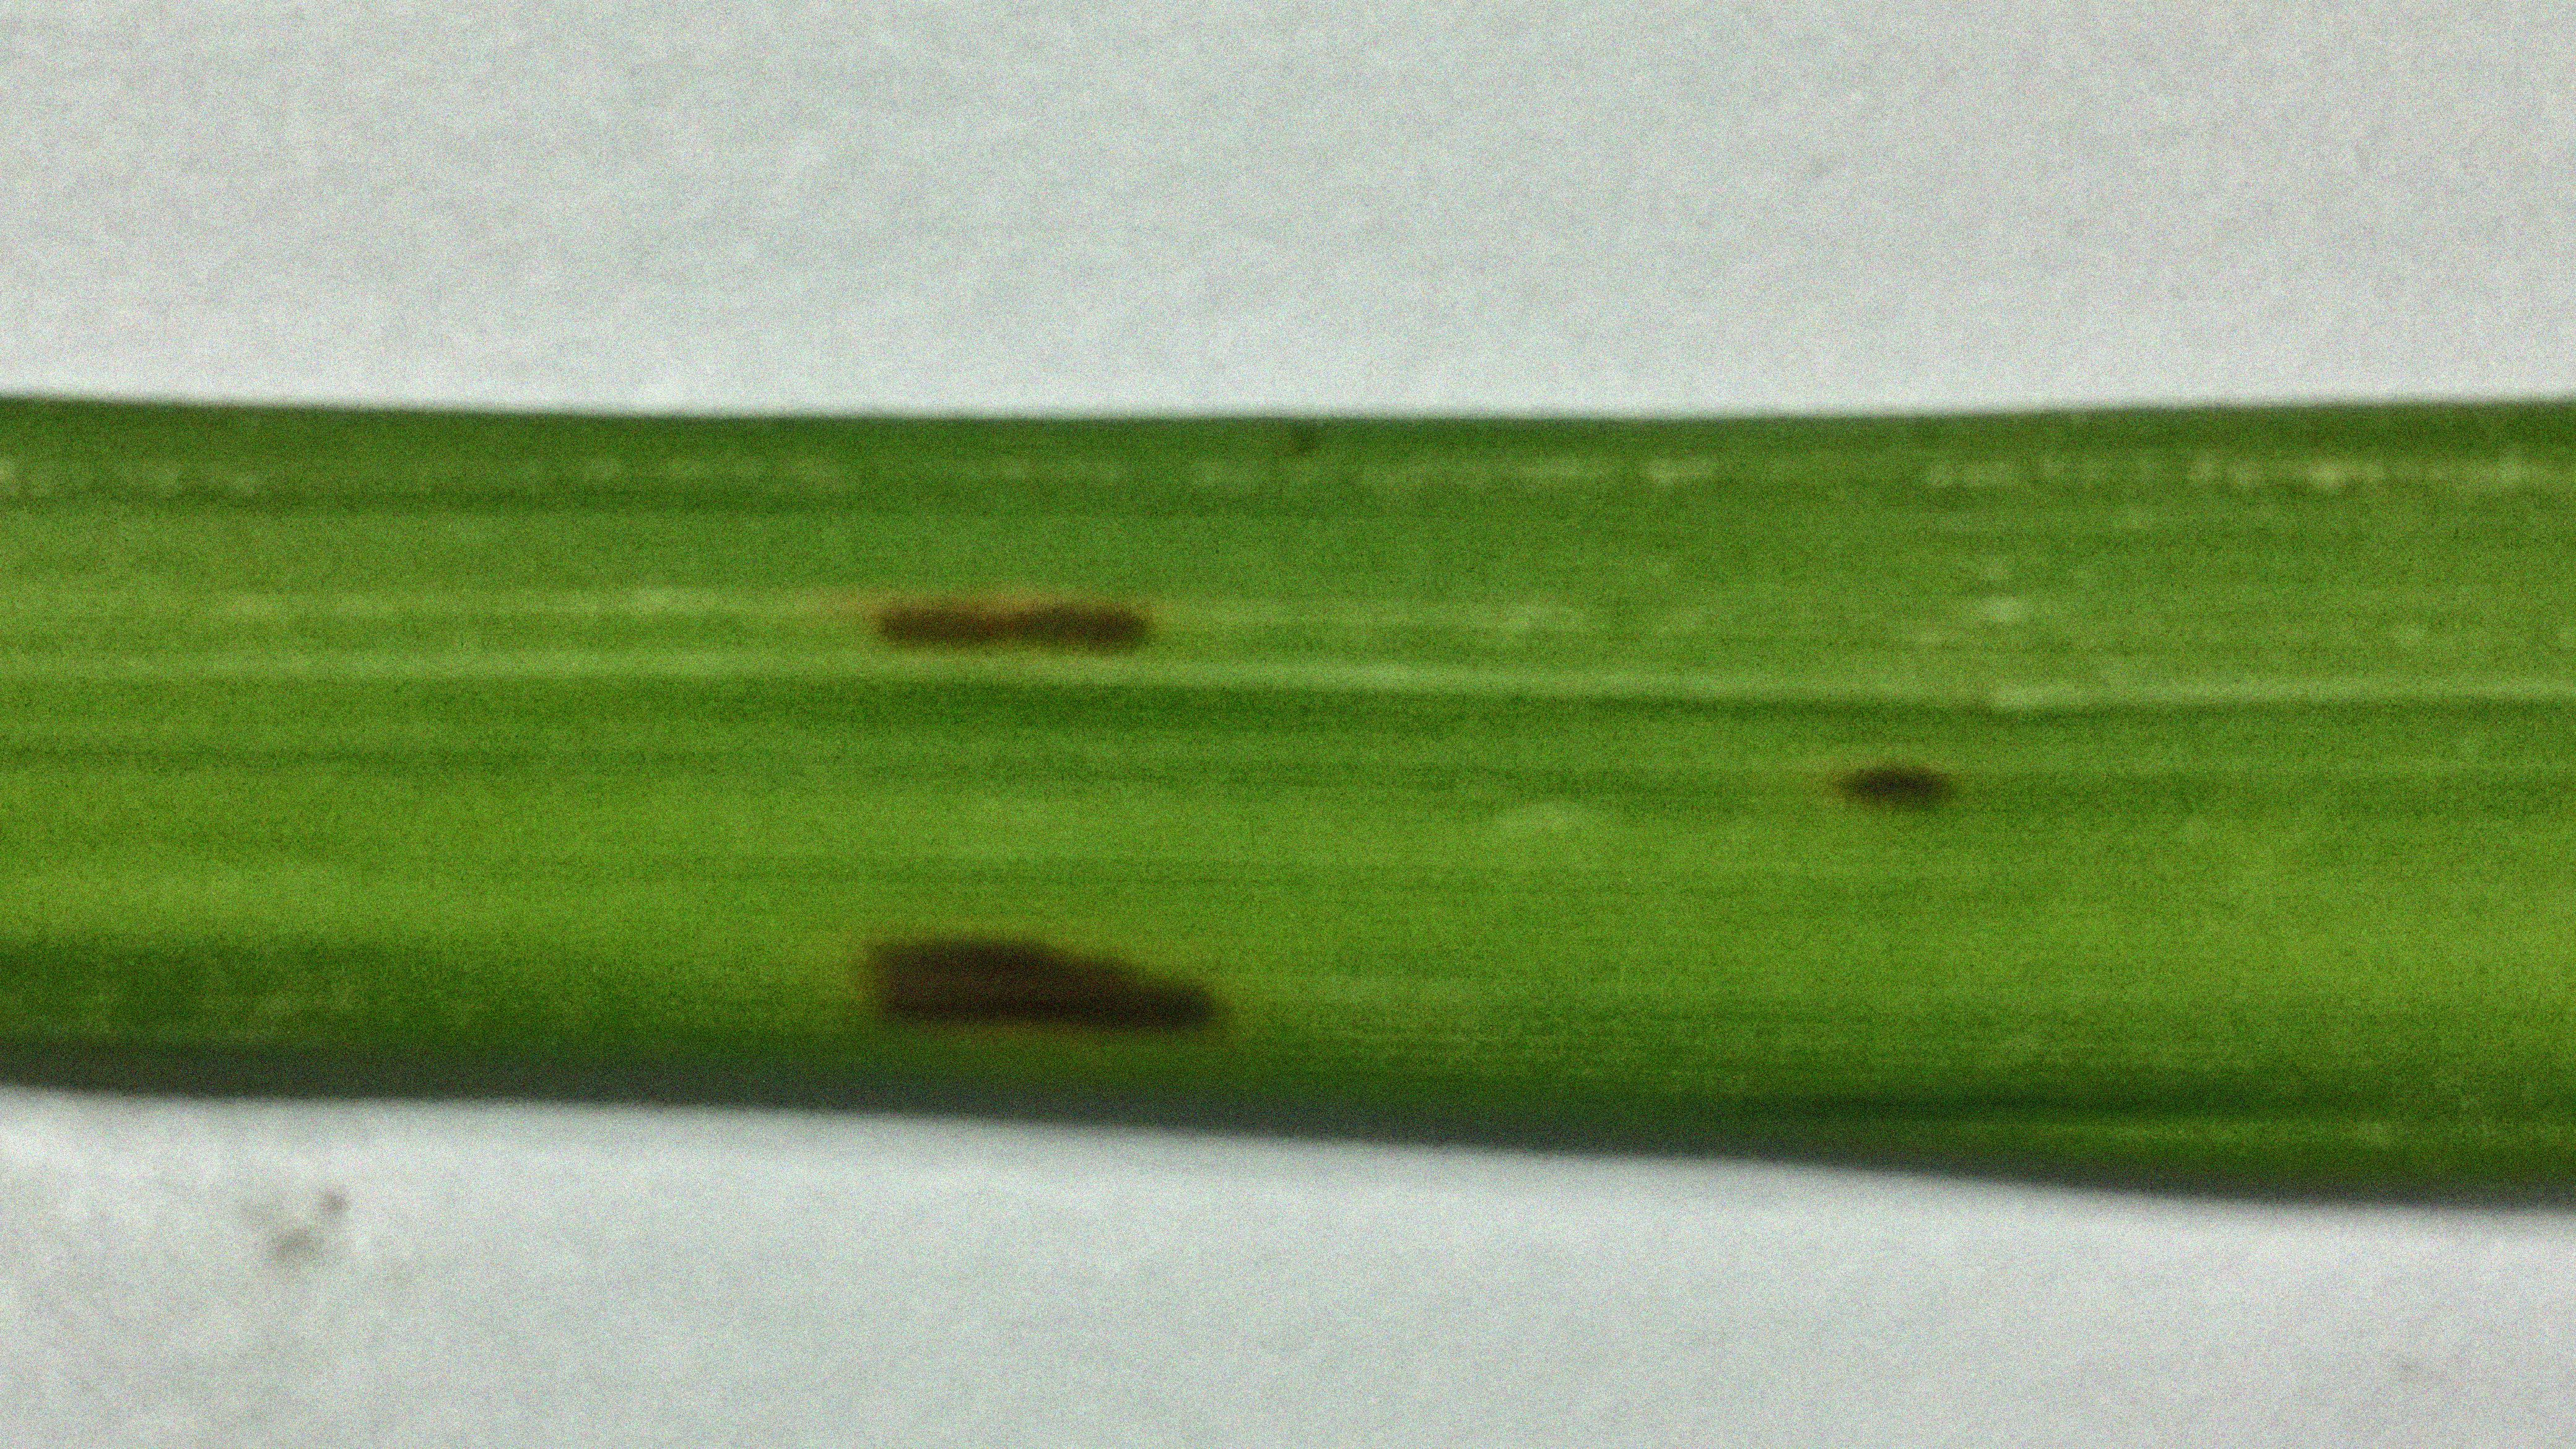leaf_smut: (793, 564, 2005, 1072)
